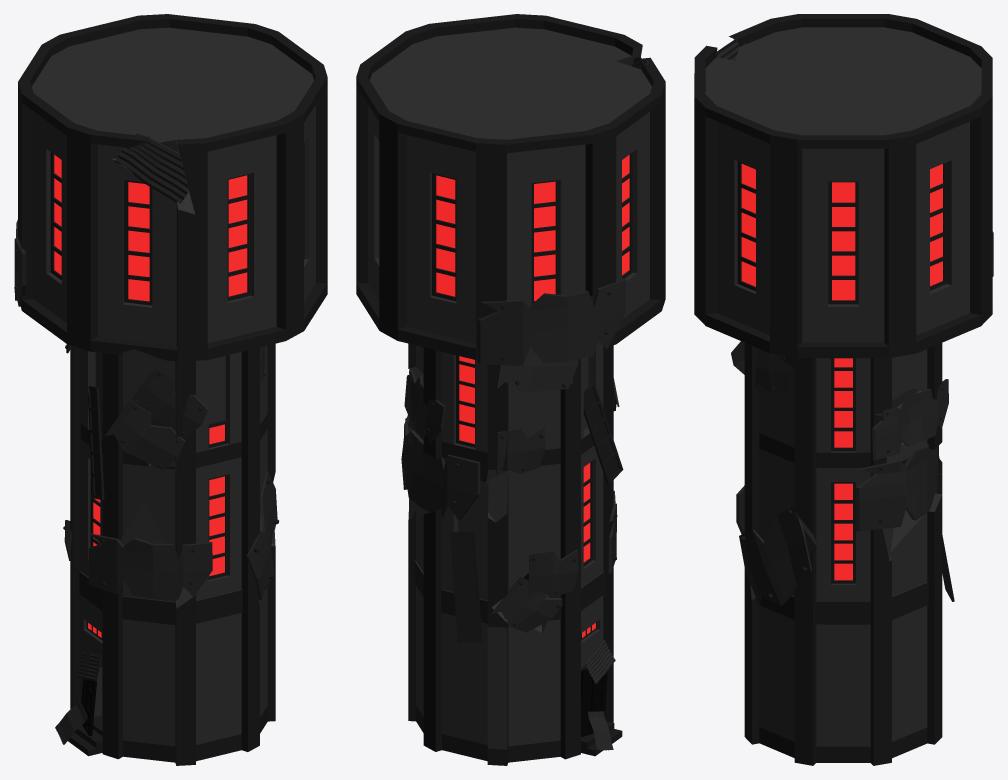
The model's file is tower.fbx.
3 views of the same model, side by side, from view 1: azimuth 30°, elevation 25°; view 2: azimuth 150°, elevation 25°; view 3: azimuth 270°, elevation 25° (orthographic).
Visible parts, largest first — view 1: 1; view 2: 1; view 3: 1.
Part boxes in pixels (x1,y1,x2,y2): 1: (14, 14, 327, 765); 1: (356, 14, 665, 765); 1: (694, 14, 993, 765).
Bounding box in the file's own units: 339 × 802 × 334.
